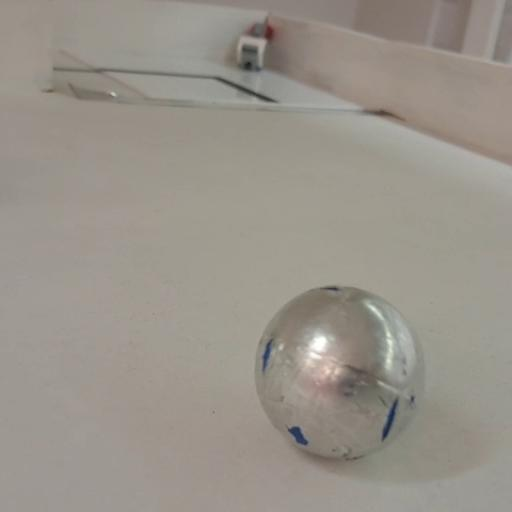alive: (252, 282, 426, 463)
